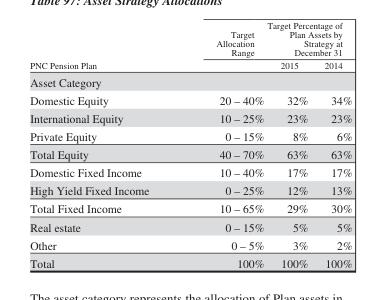table: (29, 28, 351, 269)
table column: (29, 28, 181, 269), (181, 28, 271, 269), (271, 28, 315, 269), (315, 28, 351, 269)
table column header: (29, 28, 351, 72)
table projected row header: (29, 72, 351, 90)
table row: (29, 28, 351, 58), (29, 90, 351, 109), (29, 72, 351, 90), (29, 109, 351, 127), (29, 127, 351, 145), (29, 145, 351, 163), (29, 163, 351, 181), (29, 181, 351, 199), (29, 199, 351, 217), (29, 217, 351, 235), (29, 235, 351, 253), (29, 253, 351, 269), (29, 58, 351, 72)
table spanning cell: (29, 28, 181, 72), (181, 28, 271, 72), (271, 28, 351, 58)
